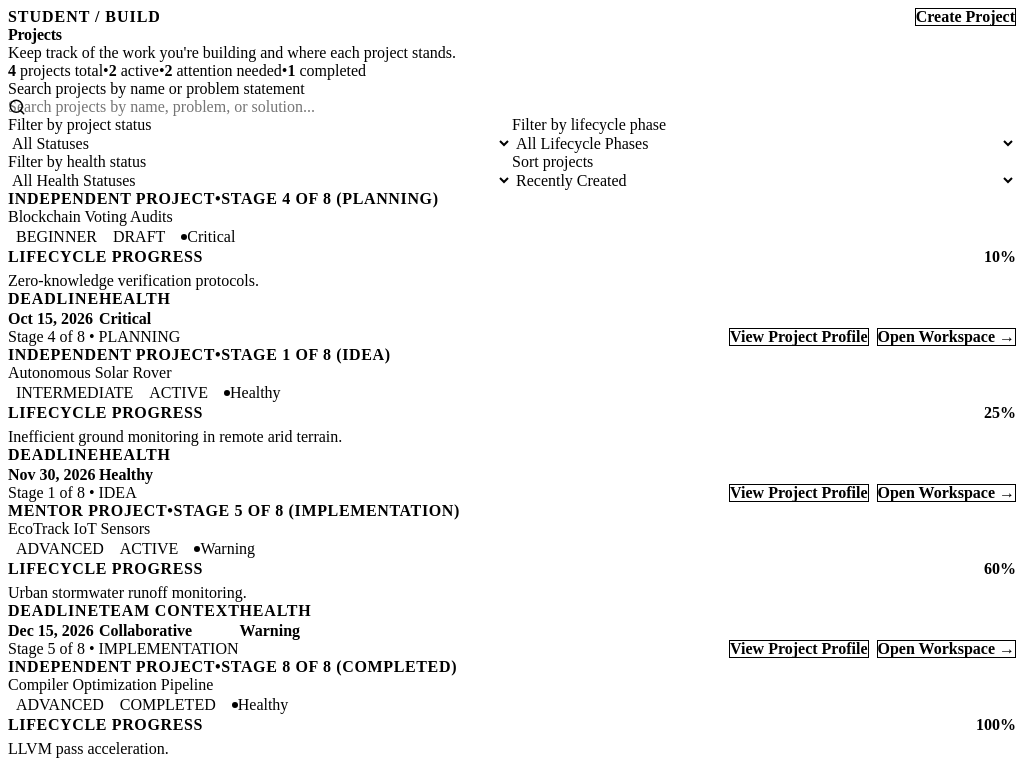
S02 — Student Projects (/student/projects) › 4. filters projects by search query (case-insensitive) across name and problem statement
Check: the heading "Autonomous Solar Rover" is shown, box [8,364,172,381]
Type "solar" into the search field with placeholder "Search projects by name, problem, or solution..." at (512,107), box [8,98,1016,116]
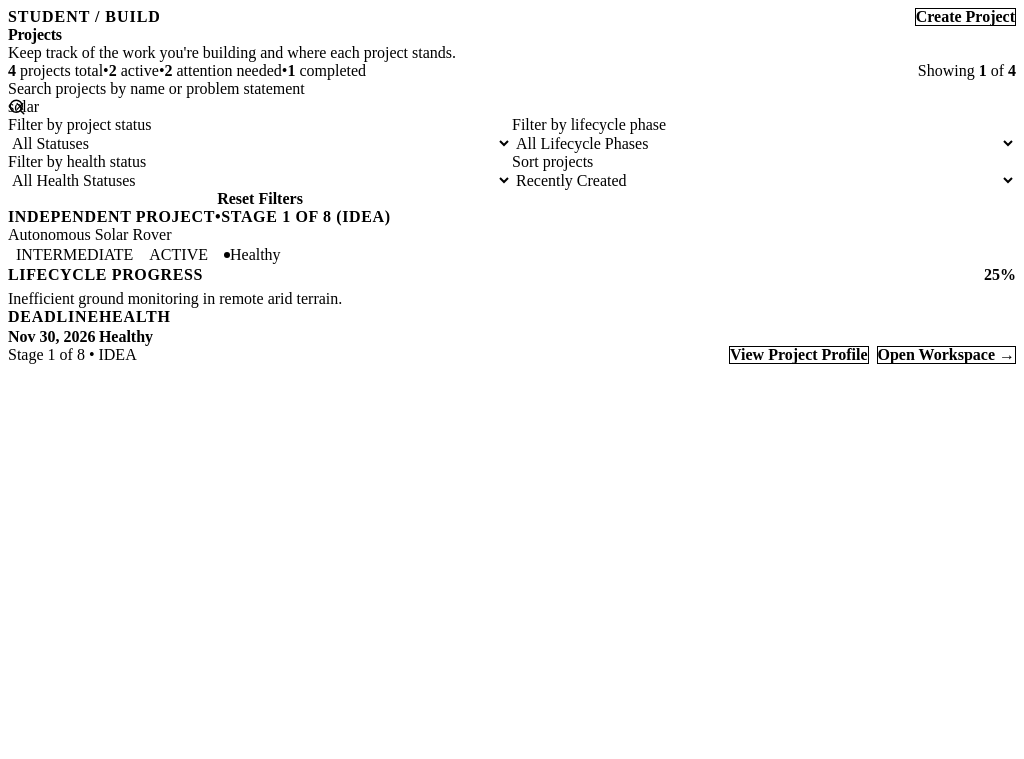
Check: the heading "Autonomous Solar Rover" is shown, box [8,226,172,243]
Check: the heading "EcoTrack IoT Sensors" is gone
Check: the heading "Compiler Optimization Pipeline" is gone
